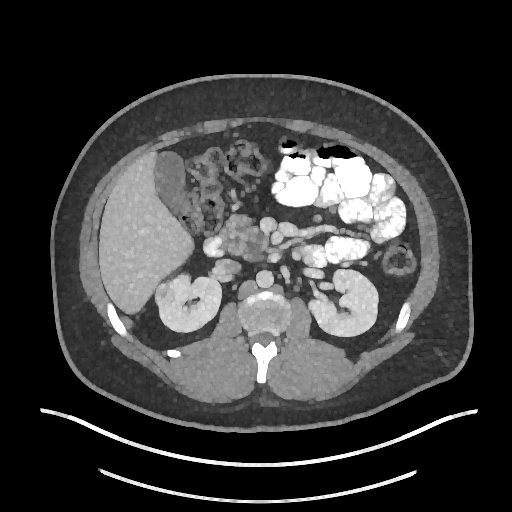Lesion: (153, 281, 177, 311)
